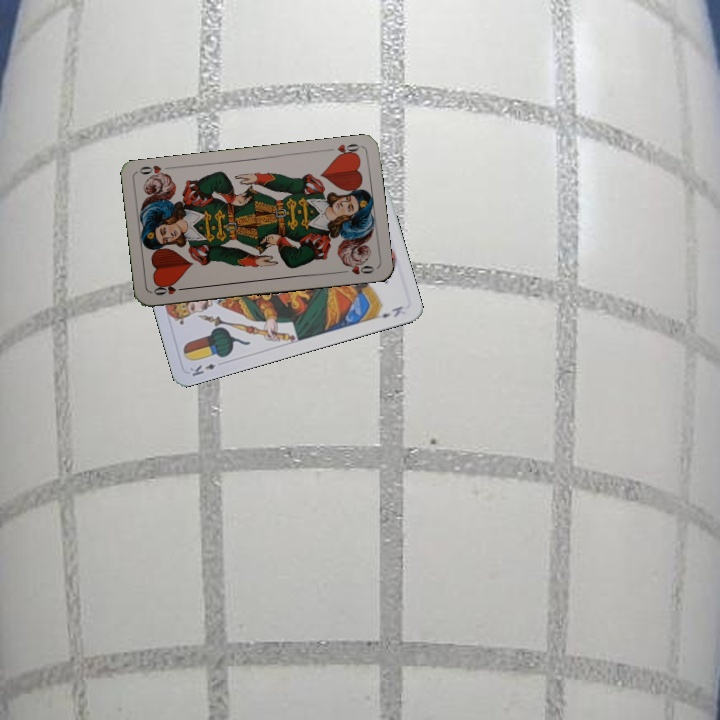EK: (186, 359, 218, 379)
HO: (322, 140, 363, 160), (149, 280, 189, 298)
